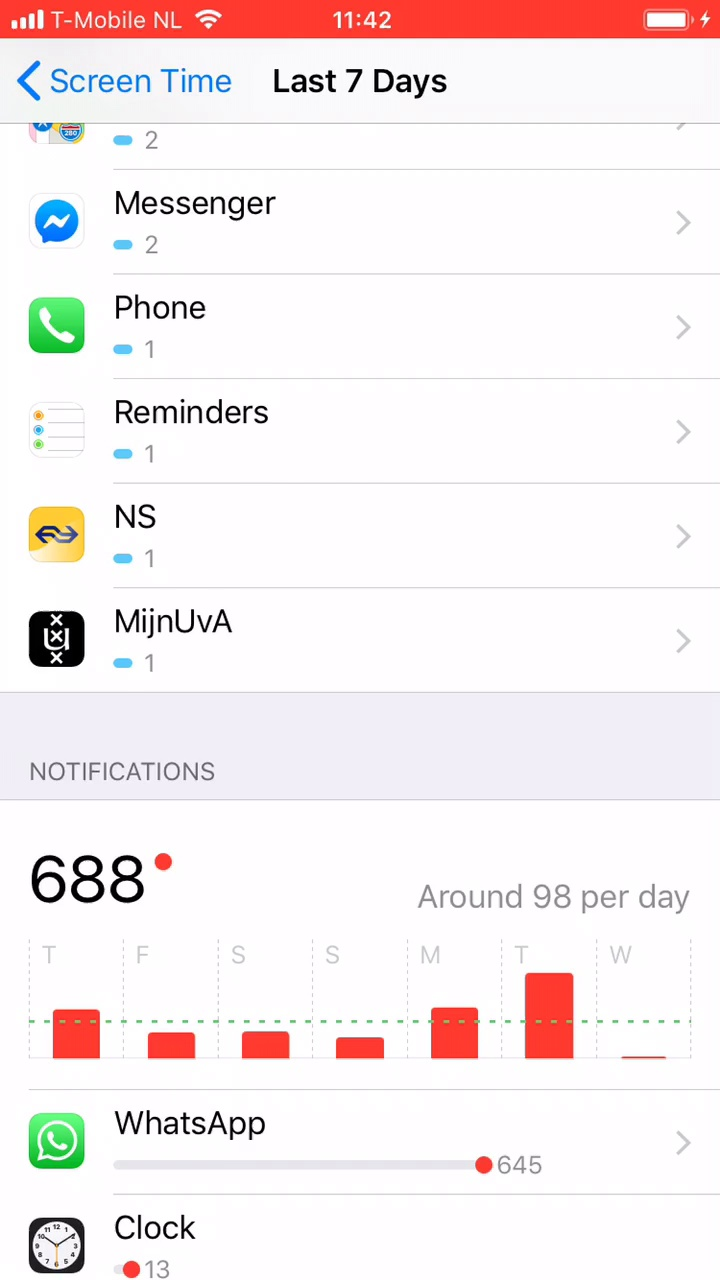not_app: (23, 1092, 609, 1197), (21, 1200, 383, 1280)
not_over: (17, 721, 287, 924)
pick_app: (14, 274, 401, 380), (11, 169, 387, 275), (18, 385, 398, 485), (17, 589, 346, 685), (17, 489, 325, 589)
week: (258, 63, 464, 103)
